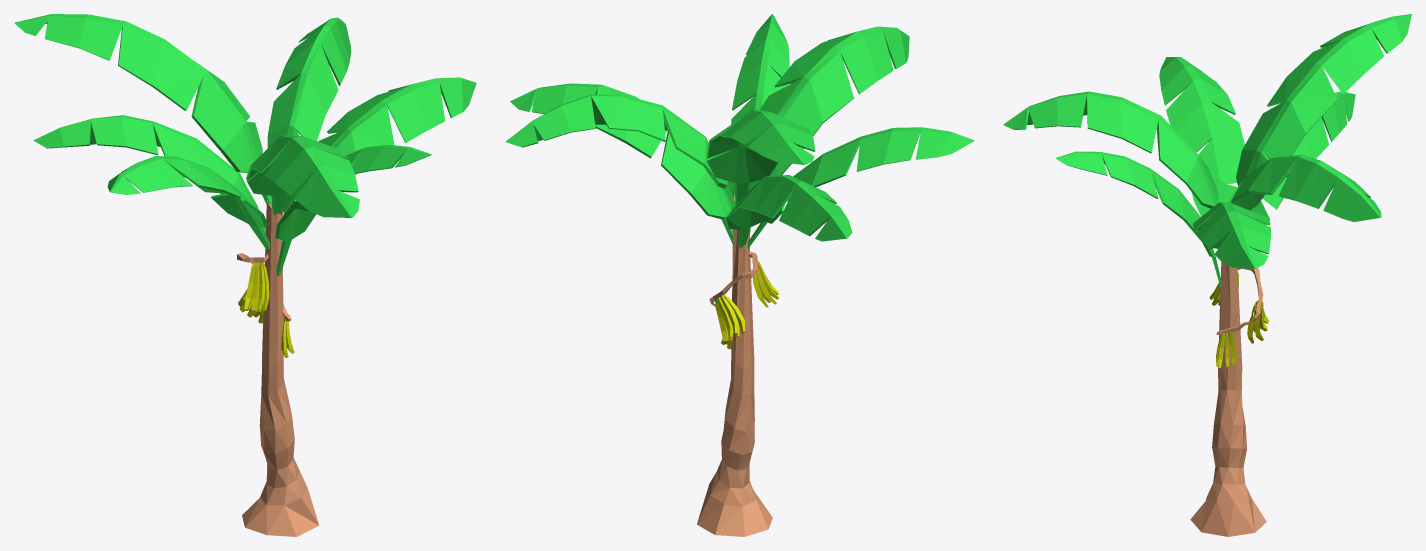
File: BananaTree_2.fbx
3 views of the same model, side by side, from view 1: azimuth 30°, elevation 25°; view 2: azimuth 150°, elevation 25°; view 3: azimuth 270°, elevation 25° (orthographic). The views are drawn at different scales.
Parts seen in each view (by area): view 1: BananaTree_2; view 2: BananaTree_2; view 3: BananaTree_2.
Part boxes in pixels (box(x1,y1,x2,y2)): BananaTree_2: box(14, 14, 476, 536); BananaTree_2: box(505, 14, 974, 536); BananaTree_2: box(1003, 14, 1411, 536).
Size of the model in its own units: 2.64 by 2.91 by 2.44.
